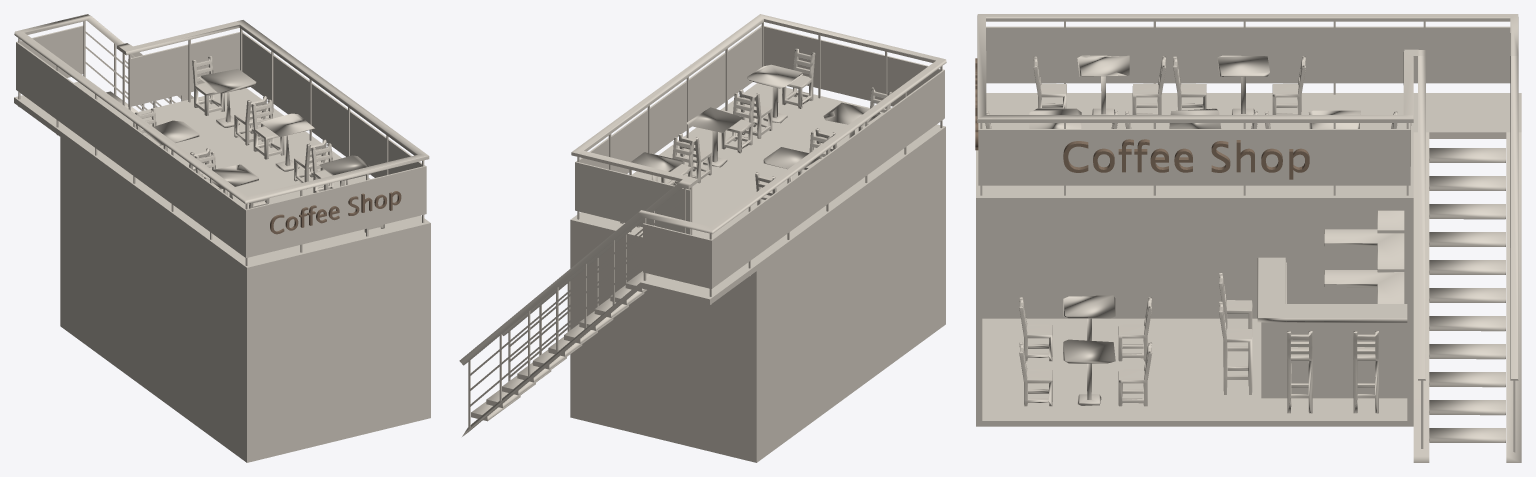
The model's file is coffee_shop.glb.
3 views of the same model, side by side, from view 1: azimuth 30°, elevation 25°; view 2: azimuth 150°, elevation 25°; view 3: azimuth 270°, elevation 25° (orthographic). The views are drawn at different scales.
Parts seen in each view (by area): view 1: polySurface7; view 2: polySurface7; view 3: polySurface7.
Boxes of the visible parts, x1,y1,x2,y2 form: polySurface7: (14,14,430,462); polySurface7: (459,14,946,462); polySurface7: (975,14,1521,462).
Size of the model in its own units: 36.67 by 36.87 by 59.2.
